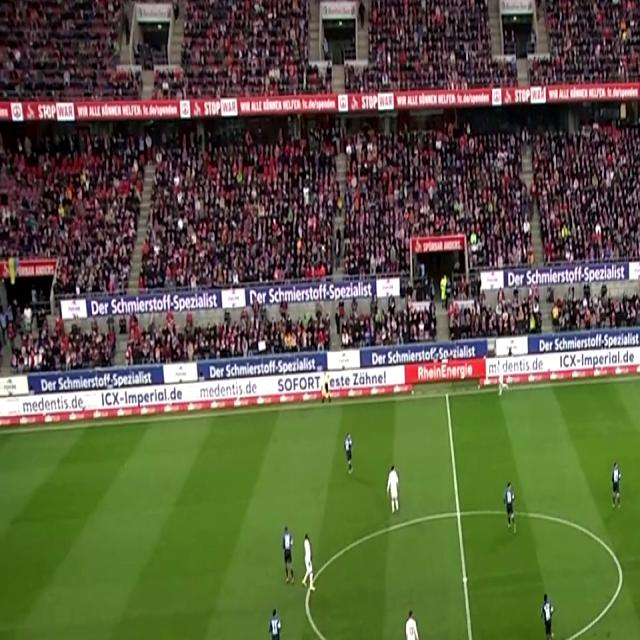soccer-player: (294, 524, 318, 598), (277, 524, 300, 592), (499, 478, 522, 540), (607, 457, 631, 512), (538, 586, 562, 640), (381, 463, 403, 521), (340, 427, 361, 478), (399, 607, 429, 640), (264, 607, 289, 640)
